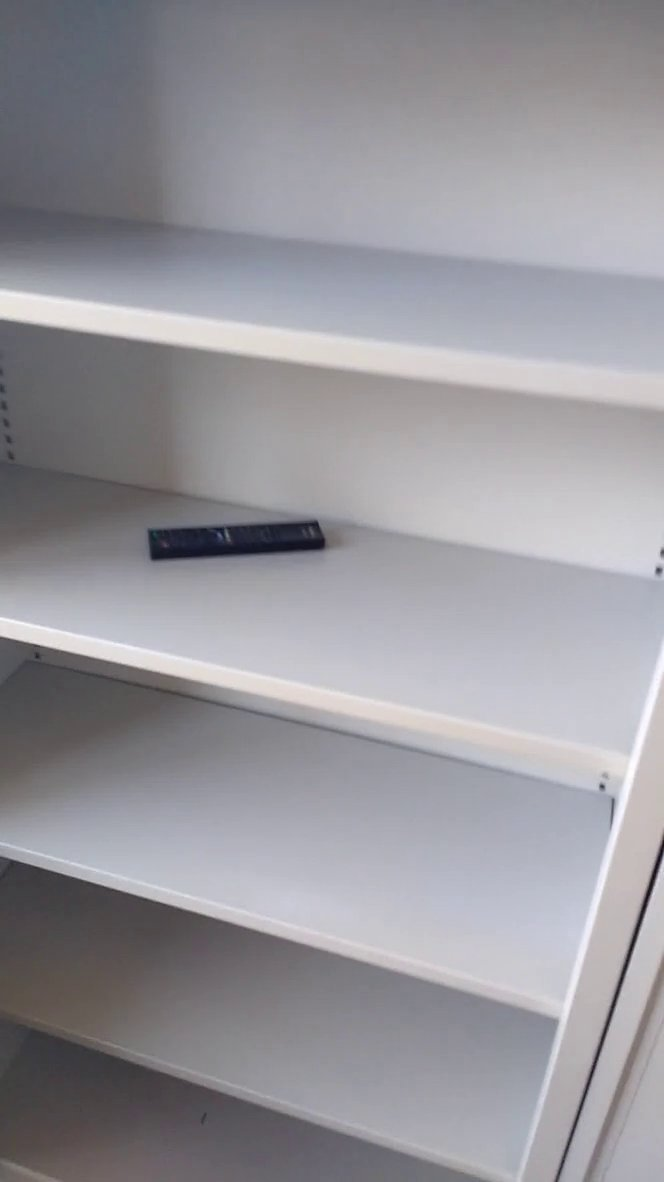remote: (137, 513, 336, 568)
